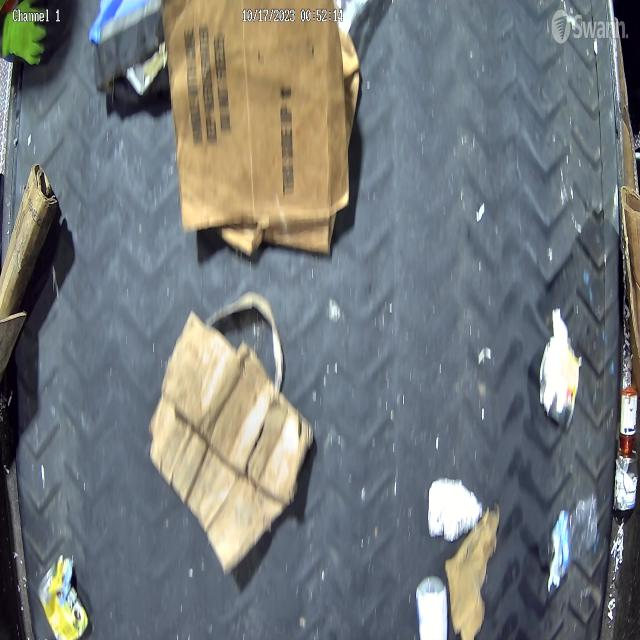can: (38, 552, 92, 638), (613, 449, 640, 512)
plastic_bottle: (543, 496, 597, 597)
